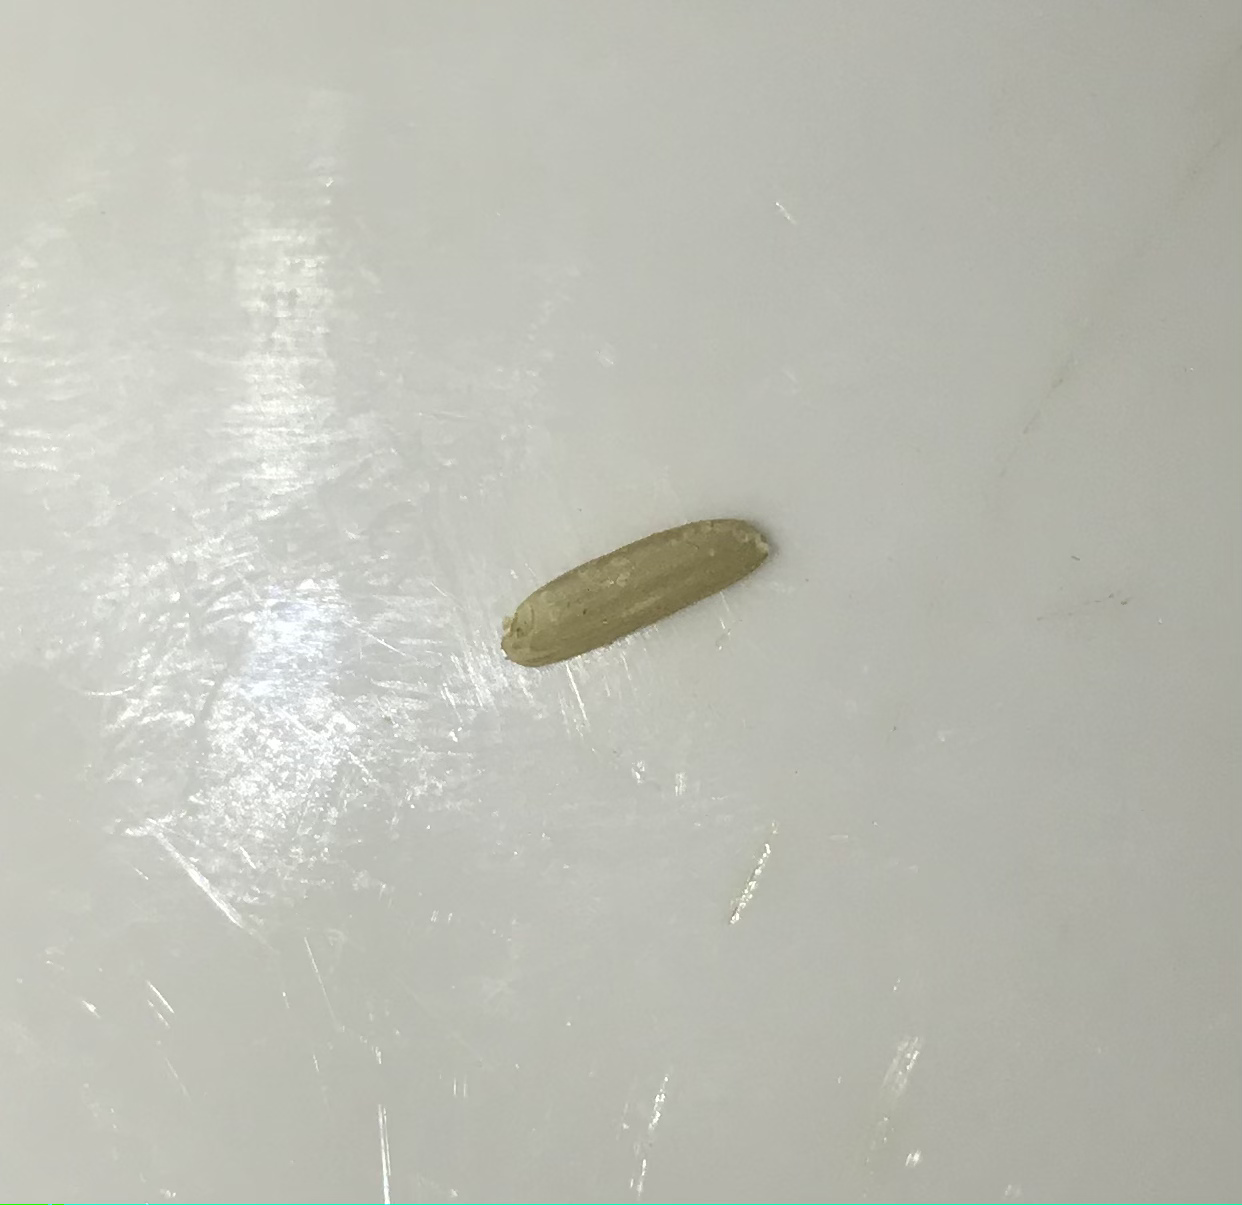Gao Lut Trang: (491, 501, 781, 684)
